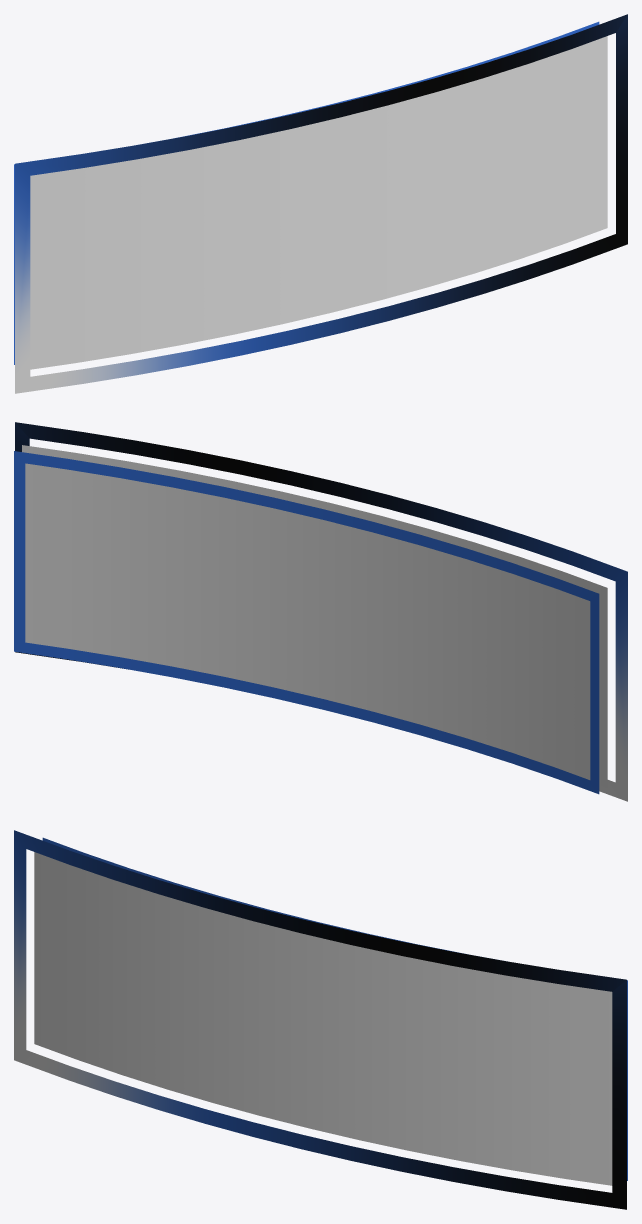
Rendered from ___button_12x3.fbx.
3 views of the same model, one above another, from view 1: azimuth 30°, elevation 25°; view 2: azimuth 150°, elevation 25°; view 3: azimuth 330°, elevation 25° (orthographic).
Parts seen in each view (by area): view 1: ___button_12x3, ___glow, ___frame; view 2: ___button_12x3, ___frame, ___glow; view 3: ___button_12x3, ___glow, ___frame.
Boxes of the visible parts, left/top/right/bottom form: ___button_12x3: left=30, top=36, right=607, bottom=369; ___glow: left=15, top=14, right=627, bottom=393; ___frame: left=14, top=21, right=599, bottom=364; ___button_12x3: left=22, top=445, right=607, bottom=788; ___frame: left=14, top=451, right=599, bottom=794; ___glow: left=15, top=422, right=627, bottom=801; ___button_12x3: left=34, top=852, right=612, bottom=1185; ___glow: left=14, top=830, right=626, bottom=1209; ___frame: left=42, top=837, right=627, bottom=1180.
Size of the model in its own units: 21.77 by 7.81 by 2.09.
